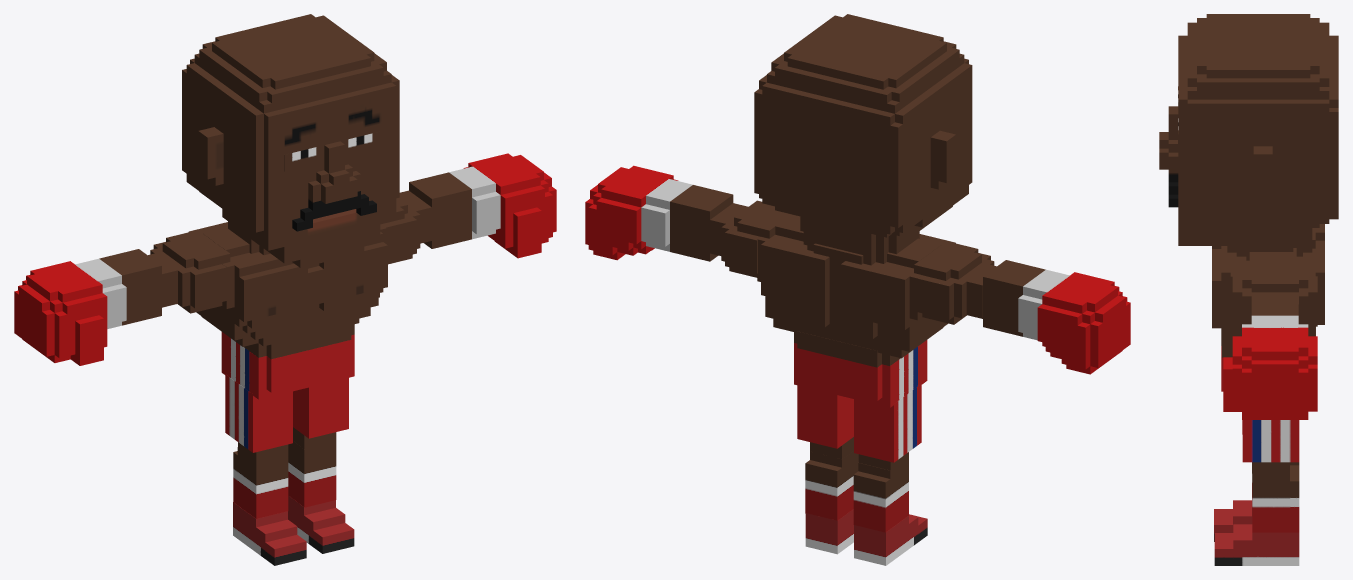
The model's file is holy-fist.fbx.
3 renders of one model, left to right at view 1: azimuth 30°, elevation 25°; view 2: azimuth 150°, elevation 25°; view 3: azimuth 270°, elevation 25°, orthographic. The views are drawn at different scales.
Visible parts, largest first — view 1: HEAD-Local.001; view 2: HEAD-Local.001; view 3: HEAD-Local.001.
Boxes of the visible parts, x1,y1,x2,y2 form: HEAD-Local.001: [14, 14, 556, 565]; HEAD-Local.001: [585, 14, 1130, 565]; HEAD-Local.001: [1159, 14, 1338, 565].
Bounding box in the file's own units: 639 × 589 × 190.
1 material, 1 textured.
